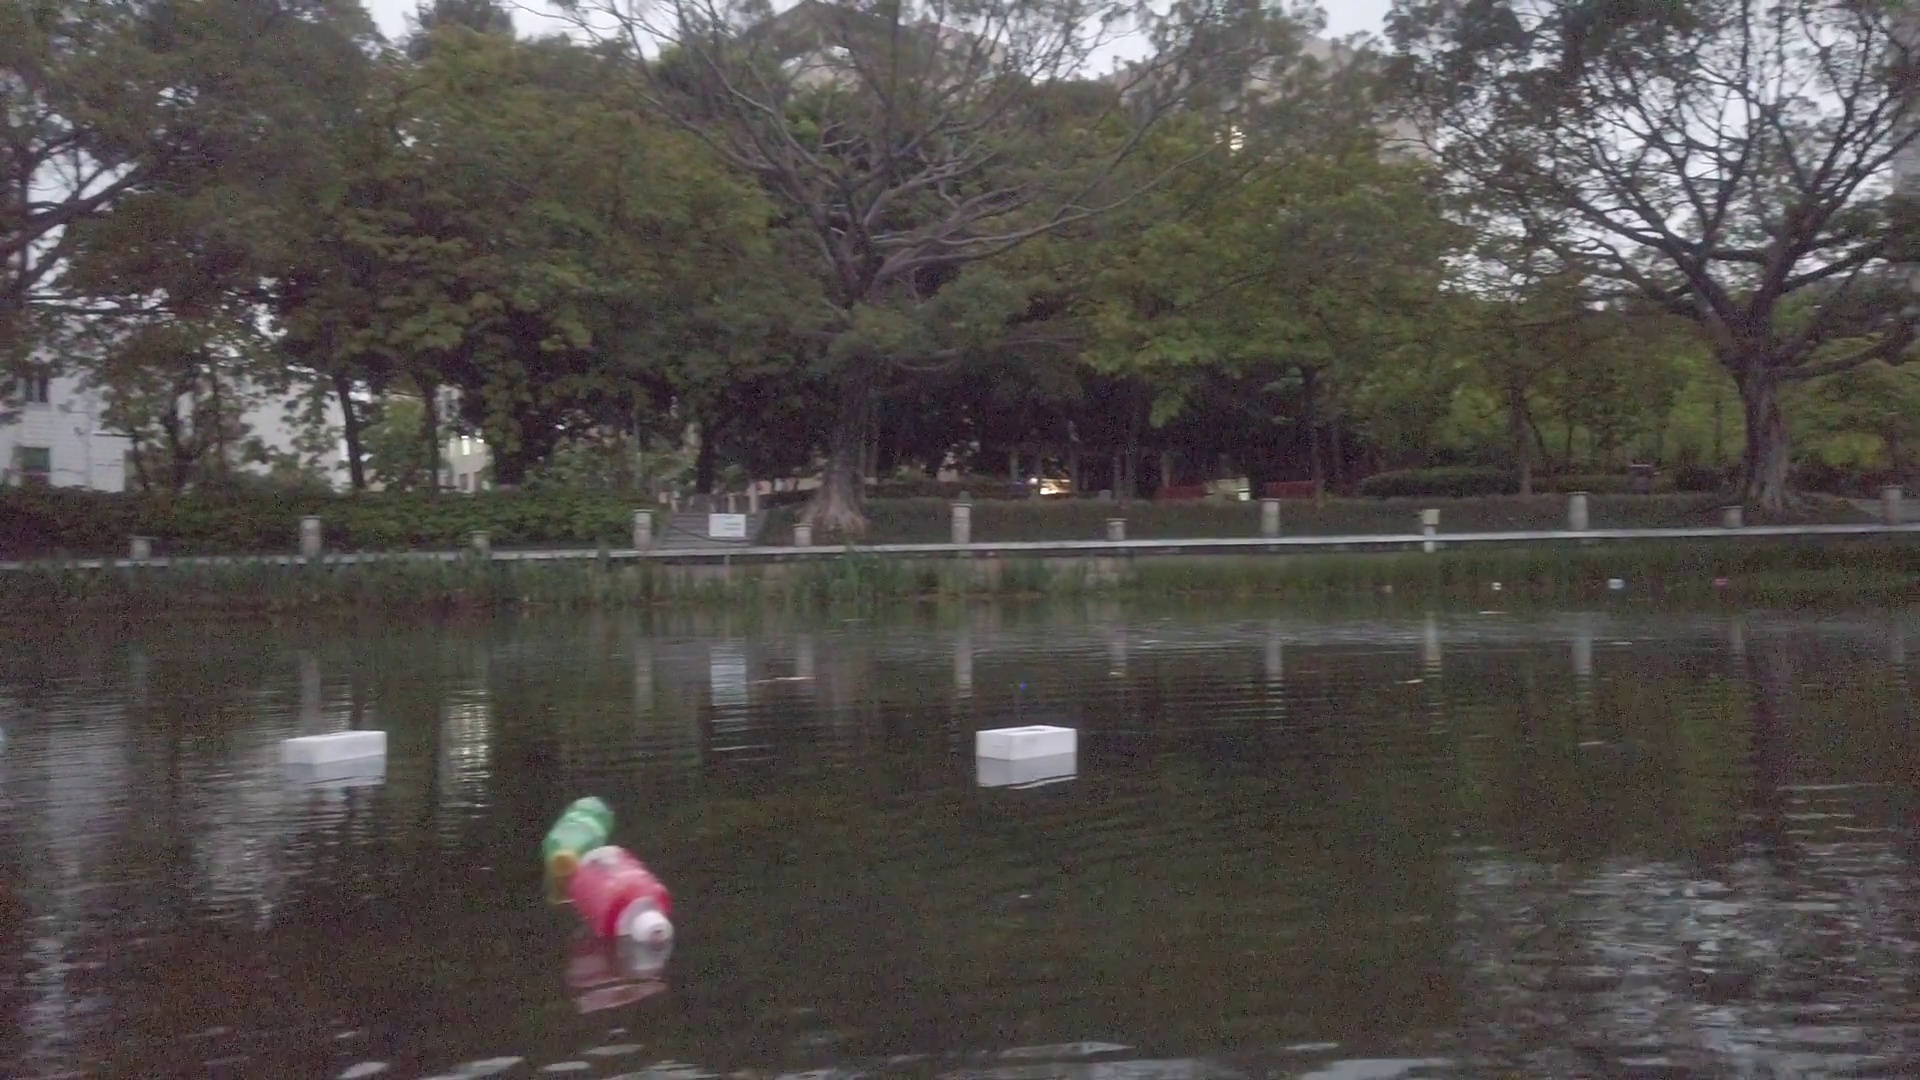bottle: (570, 837, 676, 953), (537, 785, 620, 881)
carton: (280, 731, 389, 767), (976, 727, 1075, 758)
